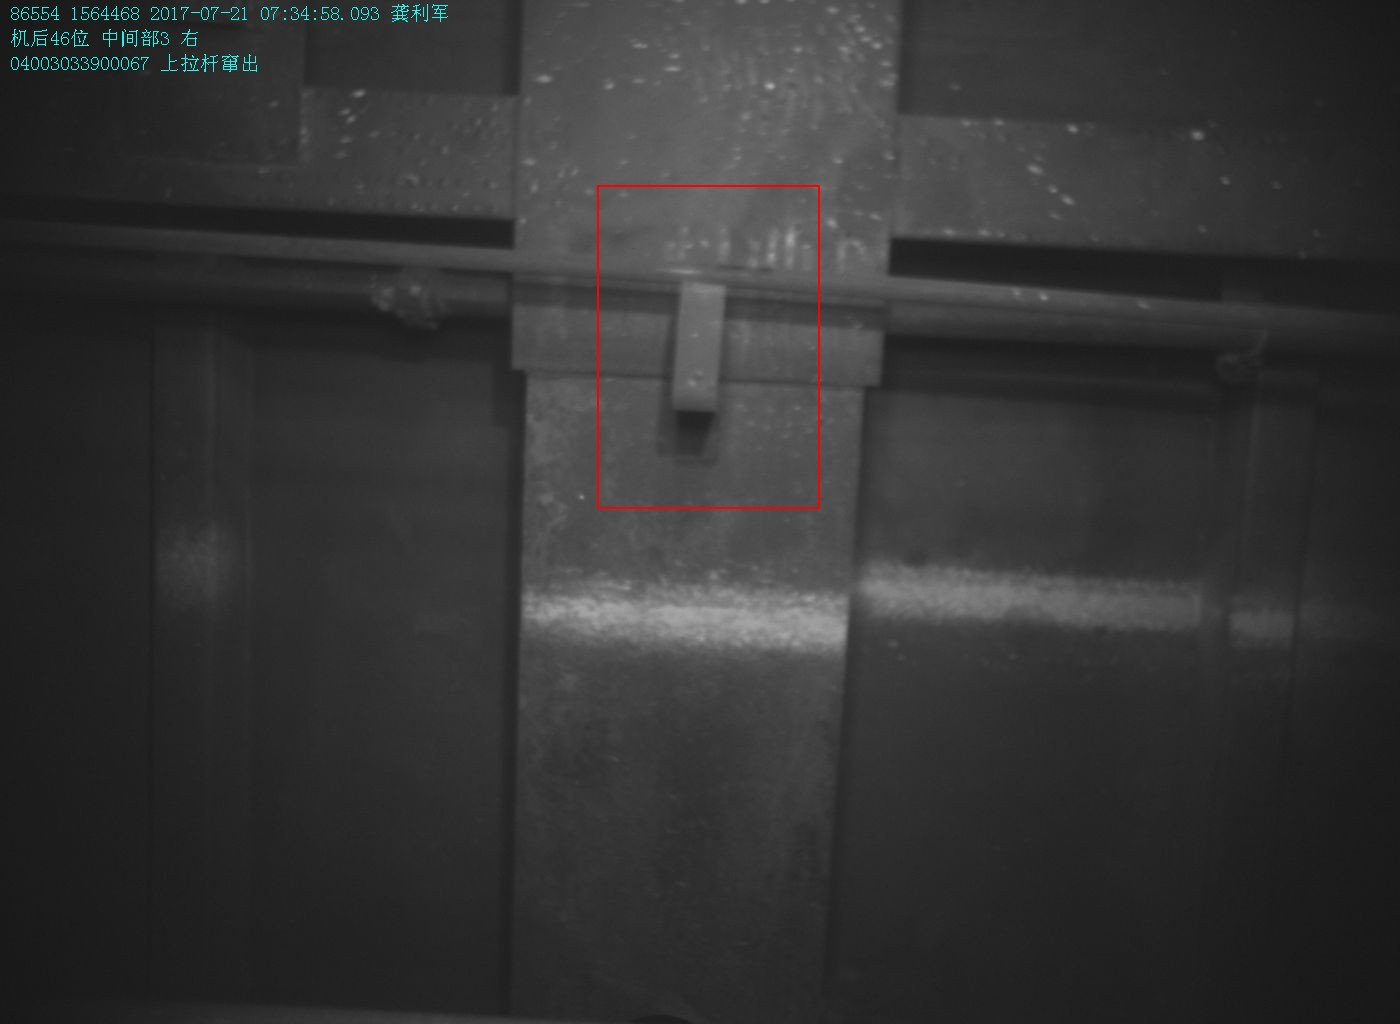upper lever: (672, 260, 729, 414)
